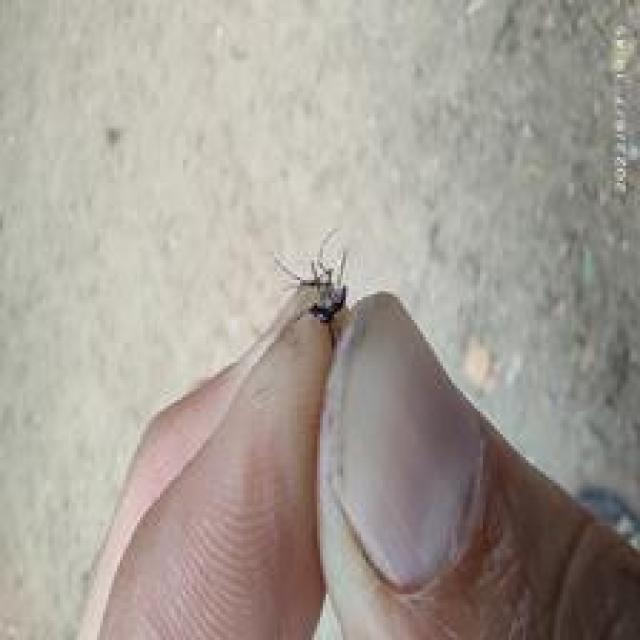Aedes albopictus: (273, 227, 353, 347)
